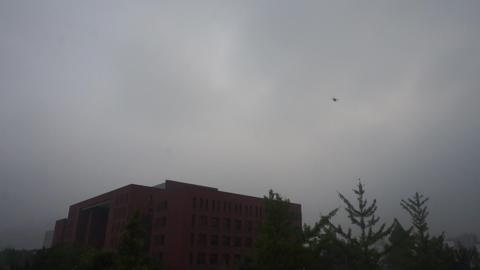UAV: (330, 97, 340, 102)
